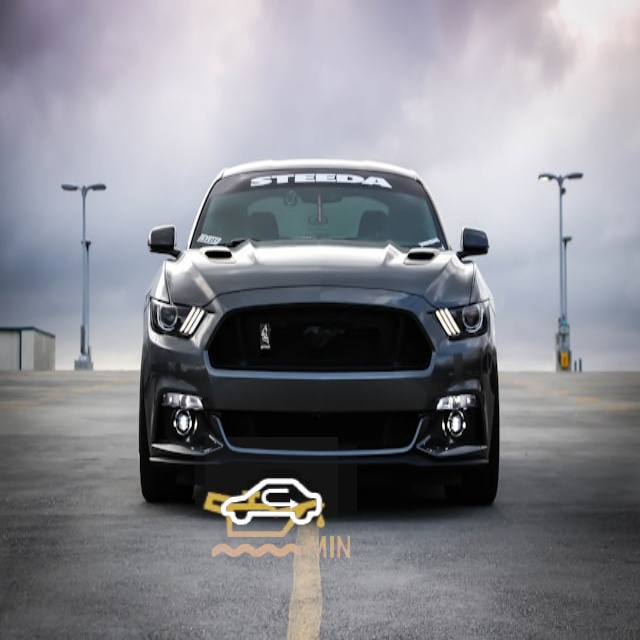symbol: (195, 445, 357, 607), (205, 437, 338, 570)
